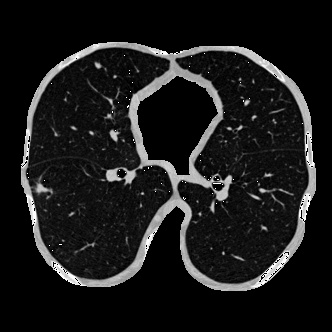PN: (94, 62, 100, 68)
